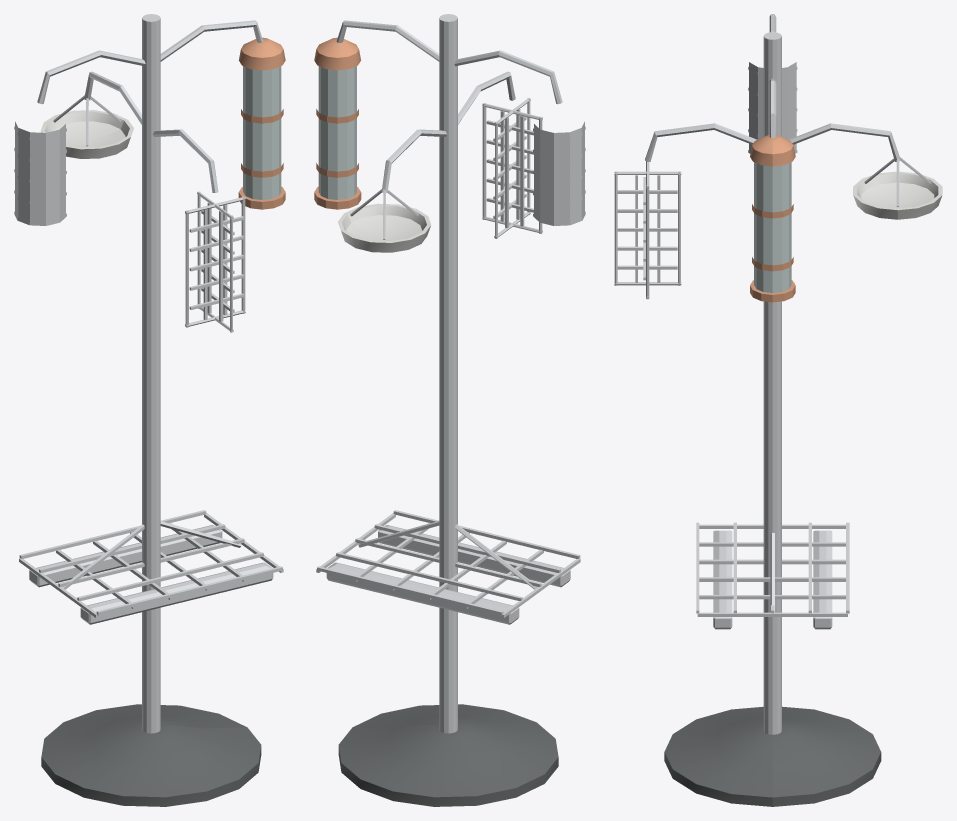
File: garden-centre-and-florist-bird-feeder-display-b35c9245__17758.glb
3 renders of one model, left to right at view 1: azimuth 30°, elevation 25°; view 2: azimuth 150°, elevation 25°; view 3: azimuth 270°, elevation 25°, orthographic. The views are drawn at different scales.
Parts seen in each view (by area): view 1: bird-feeder-display; view 2: bird-feeder-display; view 3: bird-feeder-display.
Part boxes in pixels (x1,y1,x2,y2): bird-feeder-display: (14,14,285,806); bird-feeder-display: (314,14,585,806); bird-feeder-display: (614,14,942,806).
Size of the model in its own units: 0.717 by 1.92 by 0.7873.
